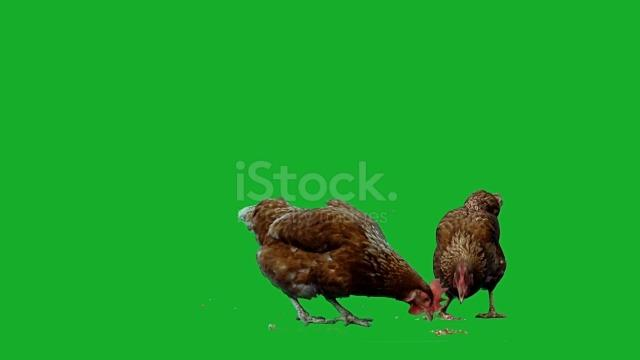Normal: (242, 195, 444, 328), (436, 182, 517, 324)
